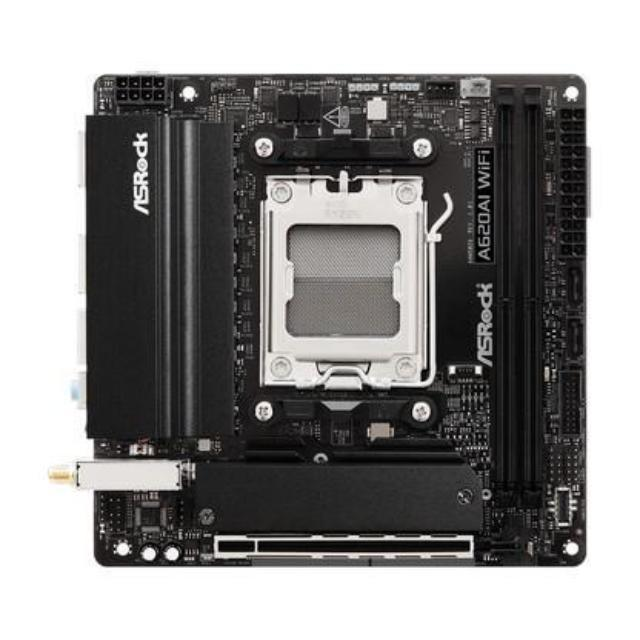Mainboard: (84, 54, 594, 572)
